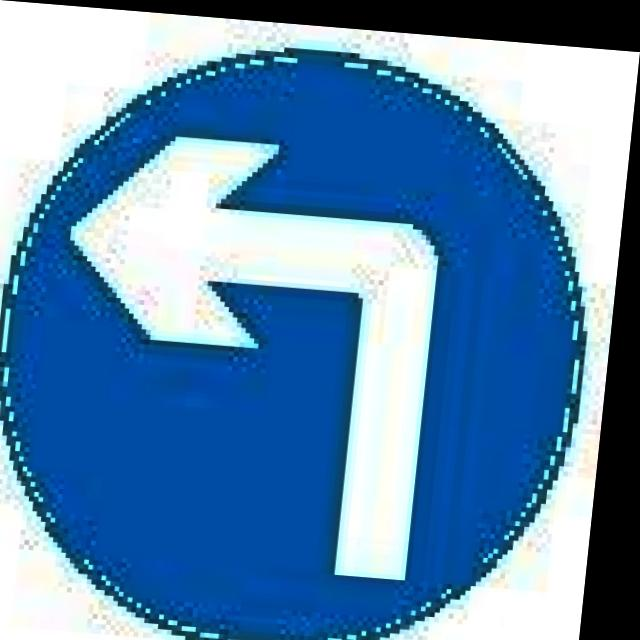COMPULSARY_TURN_LEFT_AHEAD: (0, 23, 624, 640)
